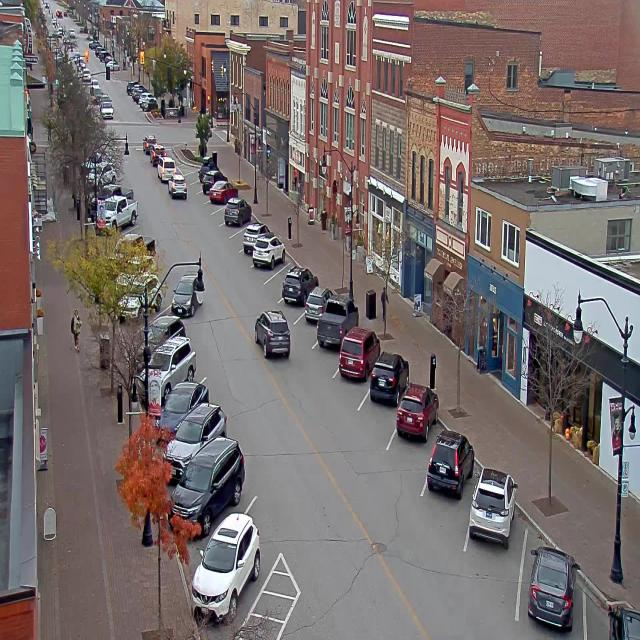available: (265, 262, 291, 297), (227, 219, 249, 254), (209, 202, 229, 228), (183, 170, 200, 187)
occupied: (169, 435, 245, 538), (192, 520, 274, 598), (526, 544, 578, 631), (468, 466, 517, 547), (166, 399, 236, 448), (426, 429, 475, 497), (154, 380, 208, 440), (148, 339, 207, 384), (396, 386, 438, 444), (593, 589, 639, 639), (369, 350, 409, 406), (316, 296, 358, 349), (341, 326, 376, 388), (282, 264, 318, 305), (252, 232, 285, 269), (308, 286, 332, 322), (224, 196, 251, 226), (210, 180, 236, 210), (242, 223, 263, 256), (200, 168, 224, 193), (198, 155, 217, 178)
